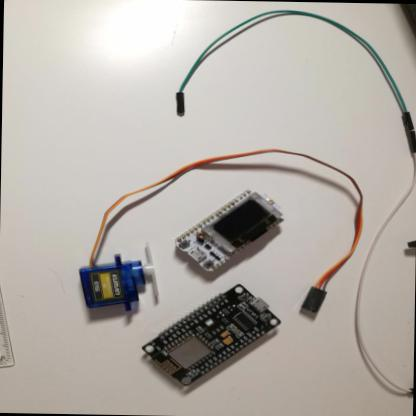ESP8266: (140, 280, 284, 388)
Heltec_ESP32_Lora: (173, 186, 288, 274)
